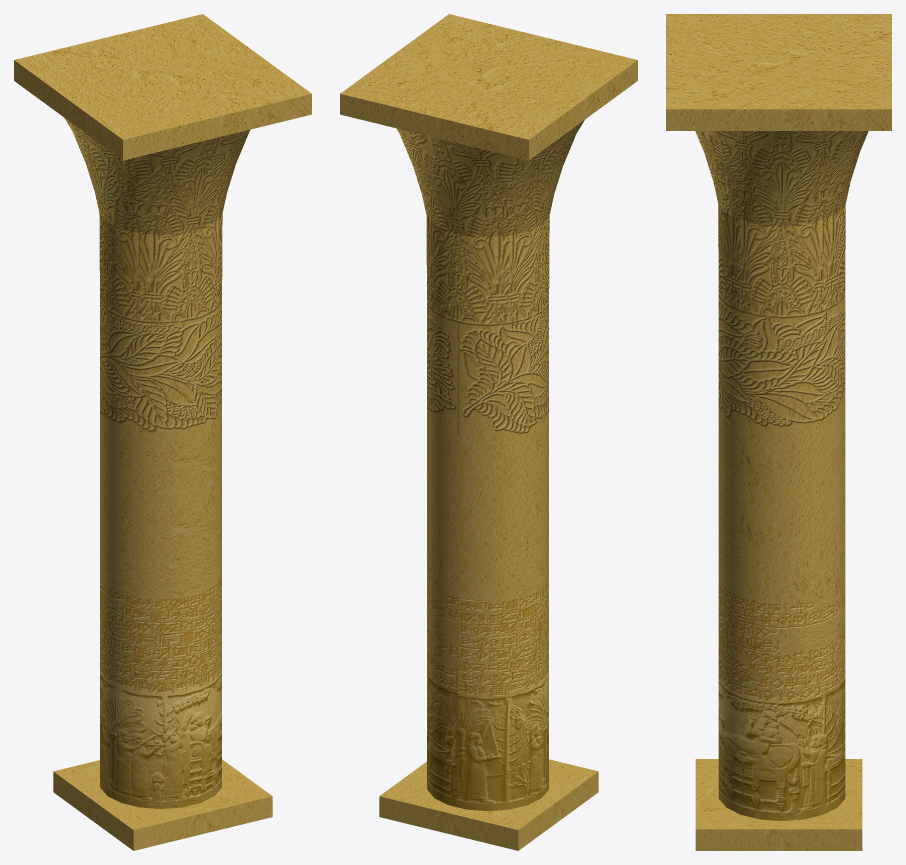
Rendered from egyptColumn.obj.
3 renders of one model, left to right at view 1: azimuth 30°, elevation 25°; view 2: azimuth 150°, elevation 25°; view 3: azimuth 270°, elevation 25°, orthographic. The views are drawn at different scales.
Parts seen in each view (by area): view 1: column_copy; view 2: column_copy; view 3: column_copy.
Part boxes in pixels (x1,y1,x2,y2): column_copy: (14, 14, 311, 850); column_copy: (340, 14, 637, 850); column_copy: (666, 14, 891, 850).
Size of the model in its own units: 190 by 700 by 190.
4 materials, 4 textured.
